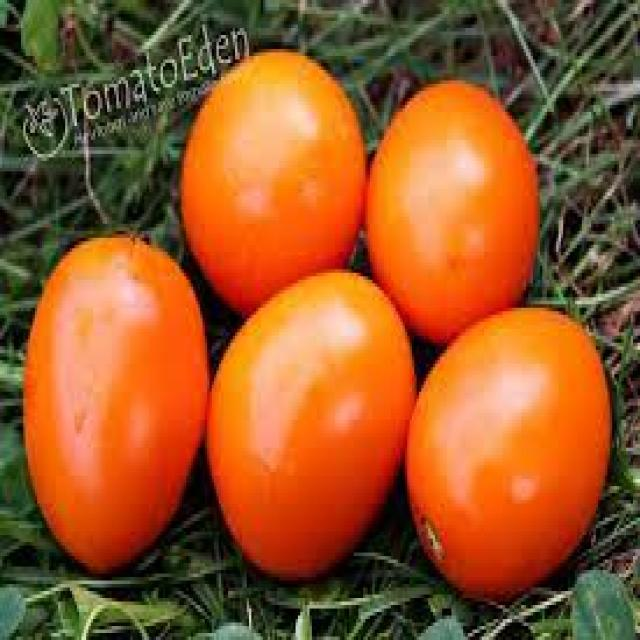Fresh_tomato: (38, 231, 200, 568), (228, 308, 408, 586), (421, 327, 593, 577), (386, 54, 536, 325), (178, 85, 370, 267)
